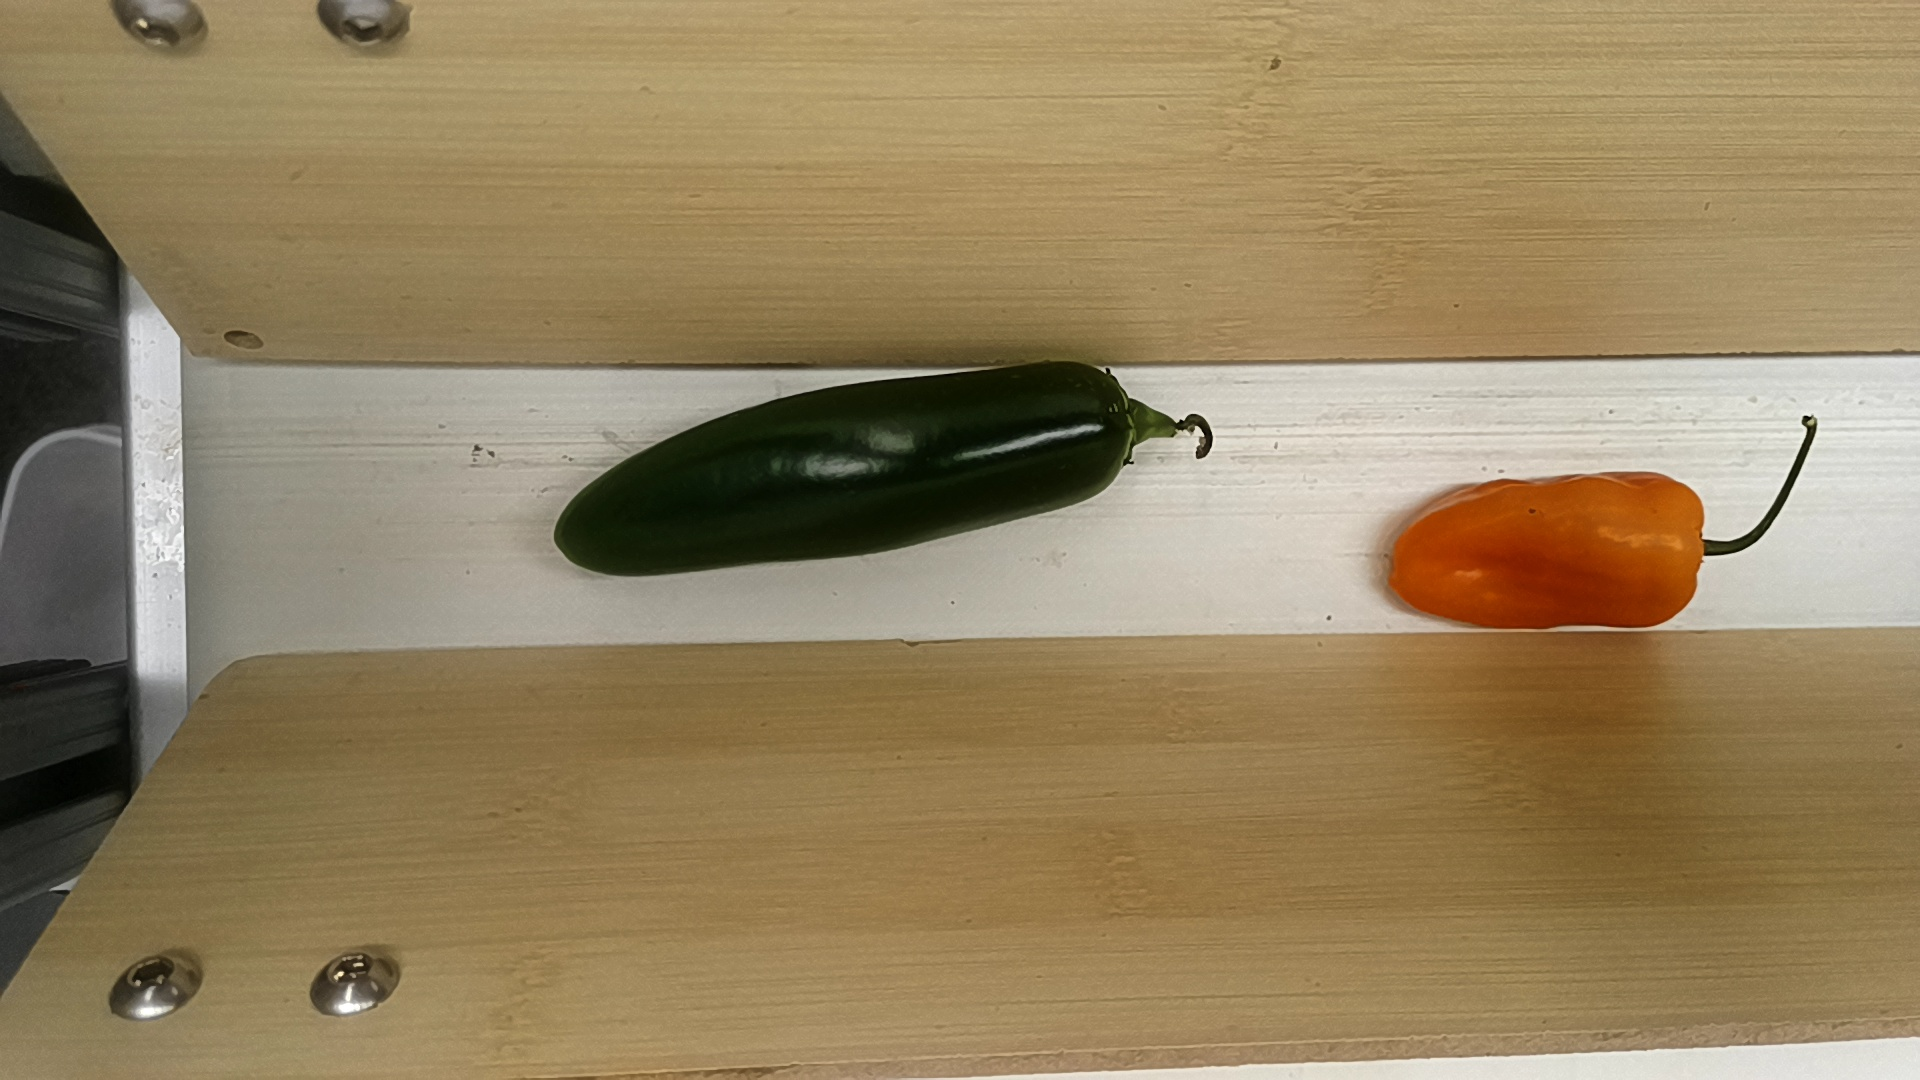Cut Point: (1077, 349, 1150, 501), (1672, 472, 1717, 620)
